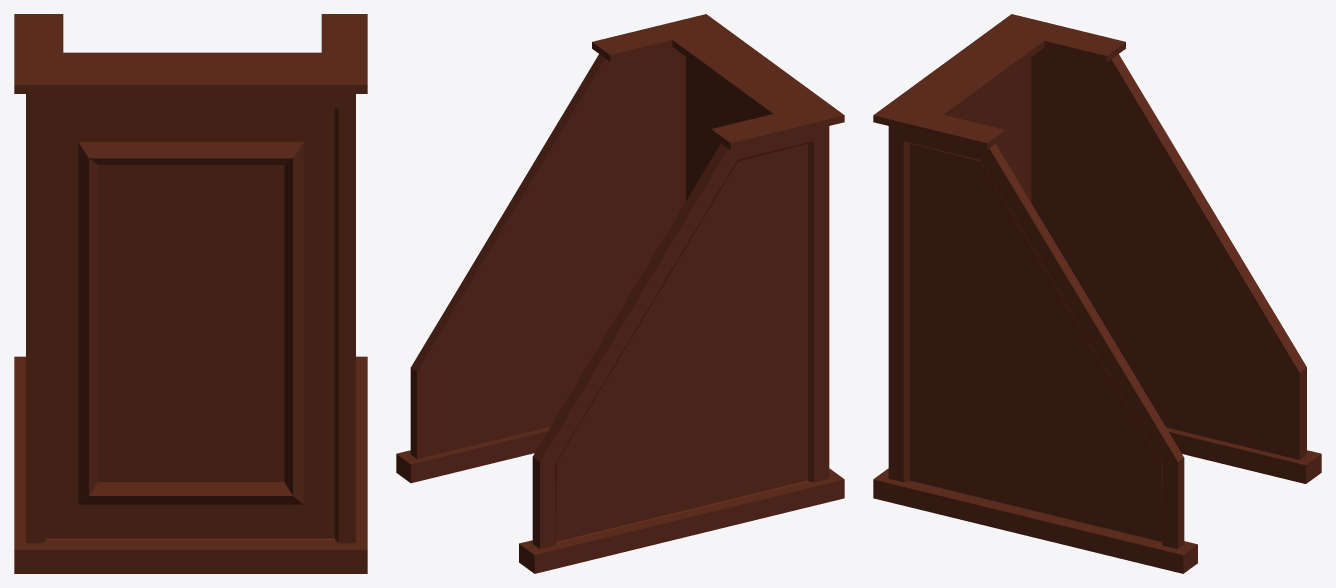
The model's file is Table_1.fbx.
3 views of the same model, side by side, from view 1: azimuth 30°, elevation 25°; view 2: azimuth 150°, elevation 25°; view 3: azimuth 270°, elevation 25° (orthographic). The views are drawn at different scales.
Visible parts, largest first — view 1: Table_1; view 2: Table_1; view 3: Table_1.
Part boxes in pixels (x1=…): Table_1: x1=14, y1=14, x2=367, y2=573; Table_1: x1=396, y1=14, x2=844, y2=573; Table_1: x1=873, y1=14, x2=1321, y2=573.
Bounding box in the file's own units: 139 × 140 × 149.
